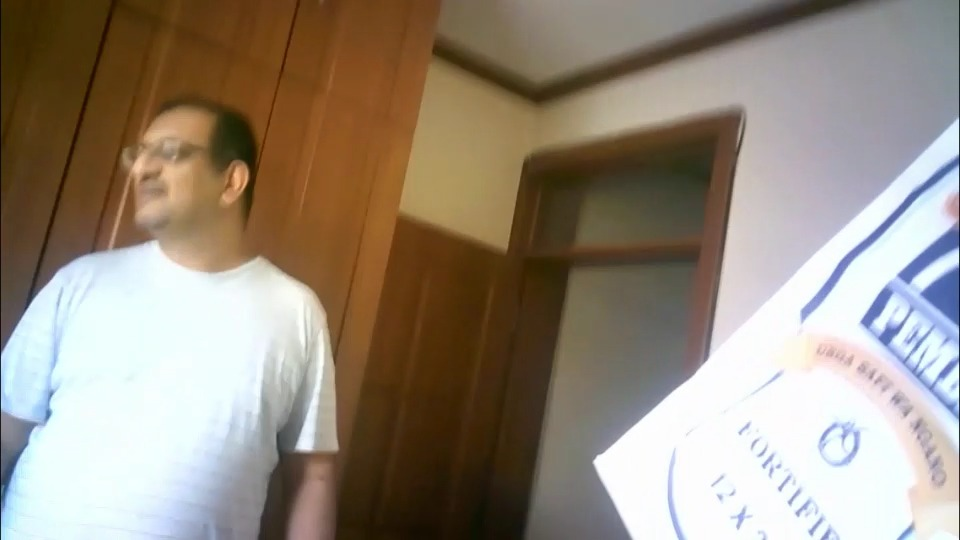wheat_flour_blue_label: (594, 117, 960, 540)
